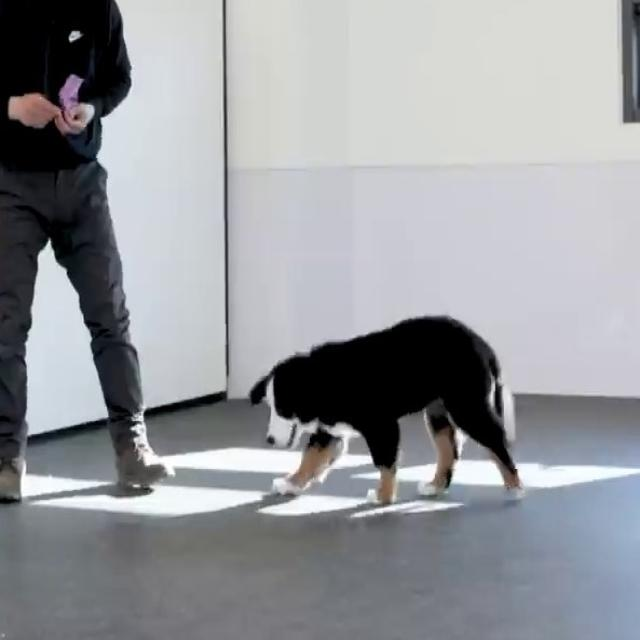Unleashed_Dog: (42, 164, 524, 507)
